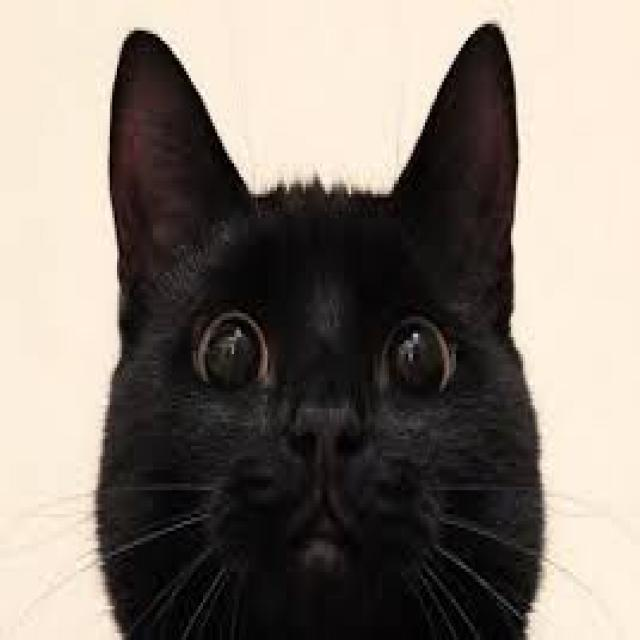black cat: (54, 24, 571, 630)
